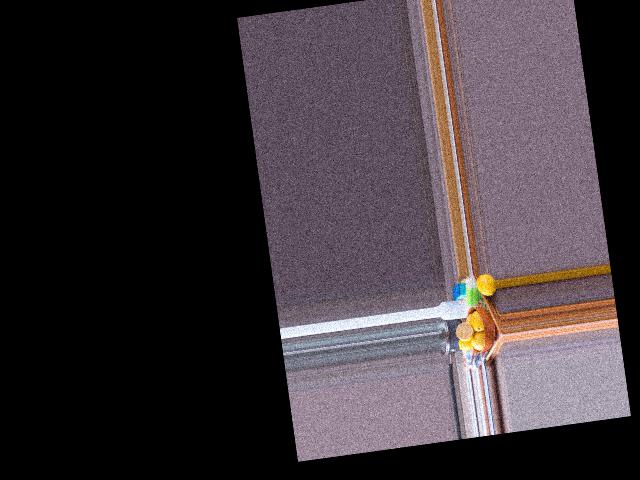lemon: (475, 272, 497, 298)
